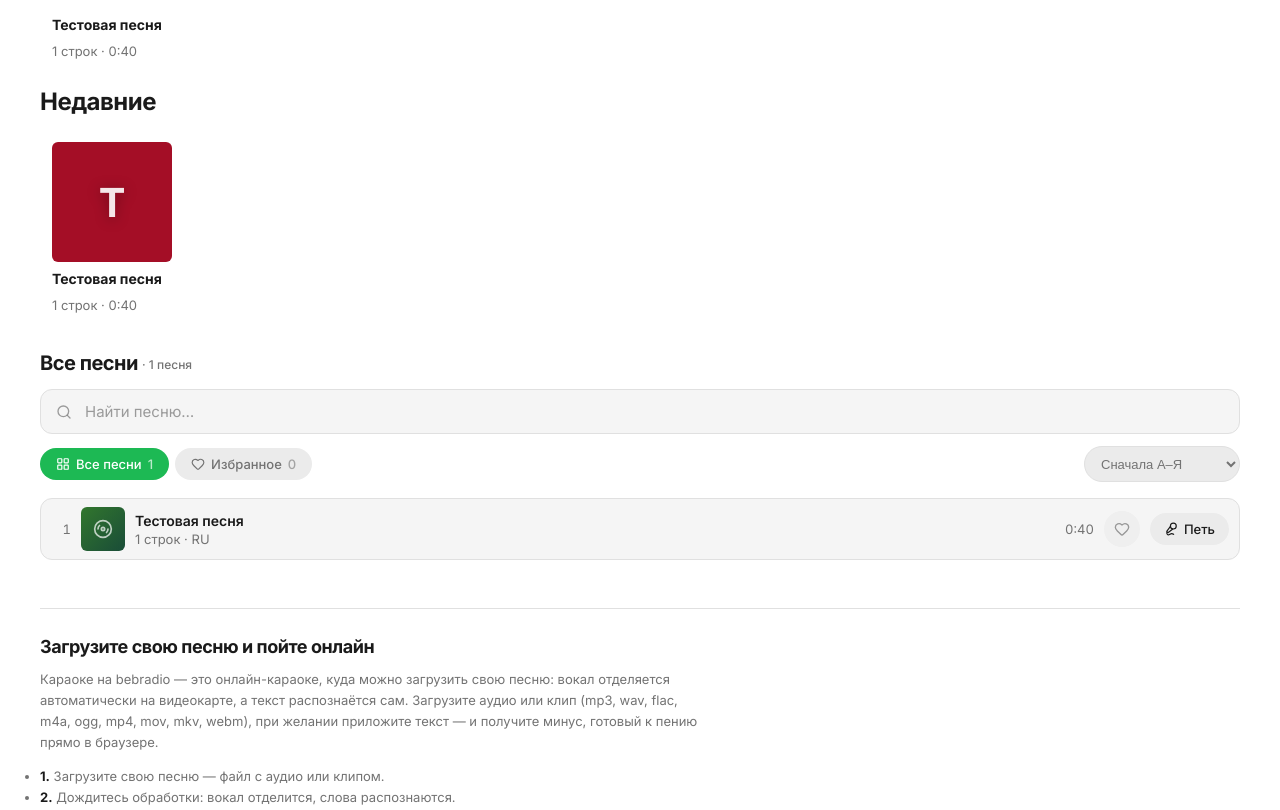
Test case: Catalog: фаза 1 — полка, сортировка, язык, вид › полка «Недавние» остаётся при поиске — фильтруется только список
(page scrolled)
Check: the button "Петь" is shown, box [1150,513,1229,545]
Check: the heading "Недавние" is shown, box [40,87,156,116]
Step 1. Type "zzz" into the field labelled "Найти песню" → (640, 412), box [40,389,1240,434]
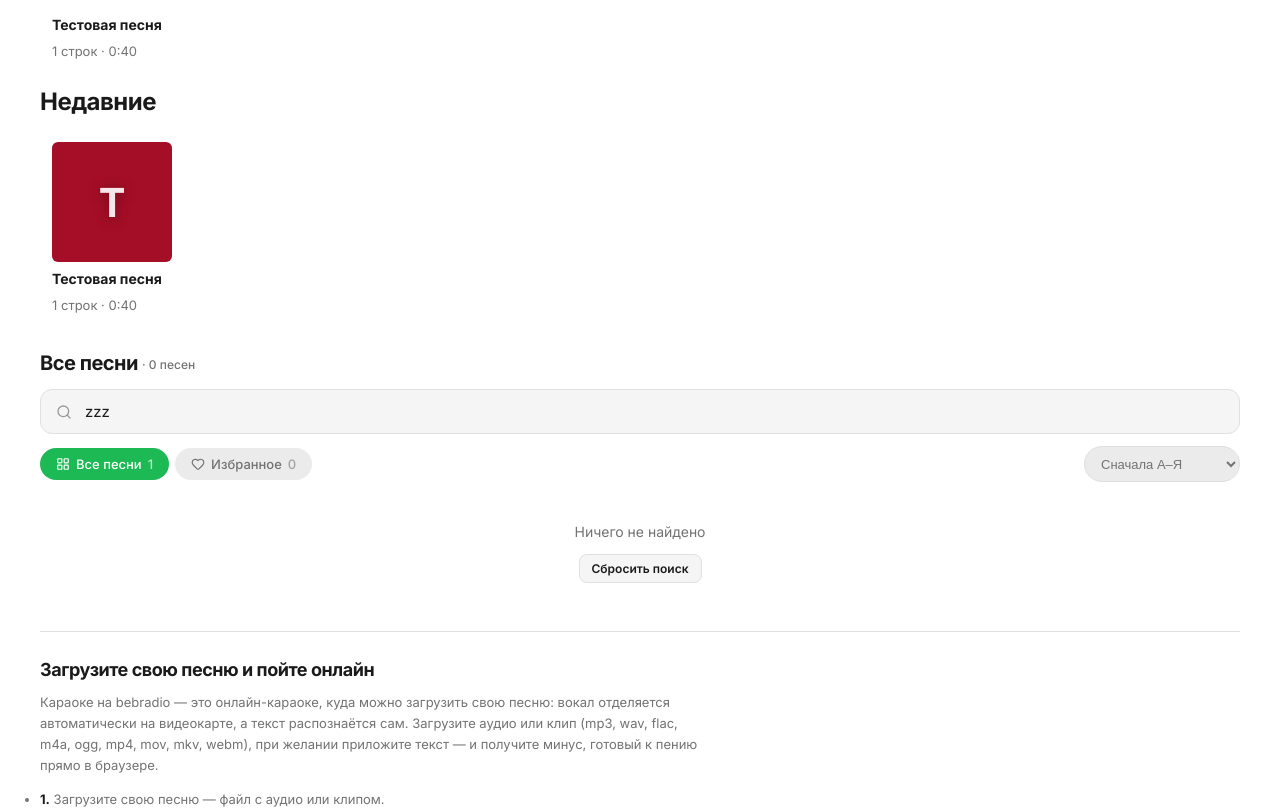
Check: the heading "Недавние" is shown, box [40,87,156,116]
Check: the button "Сбросить поиск" is shown, box [578,554,702,583]
